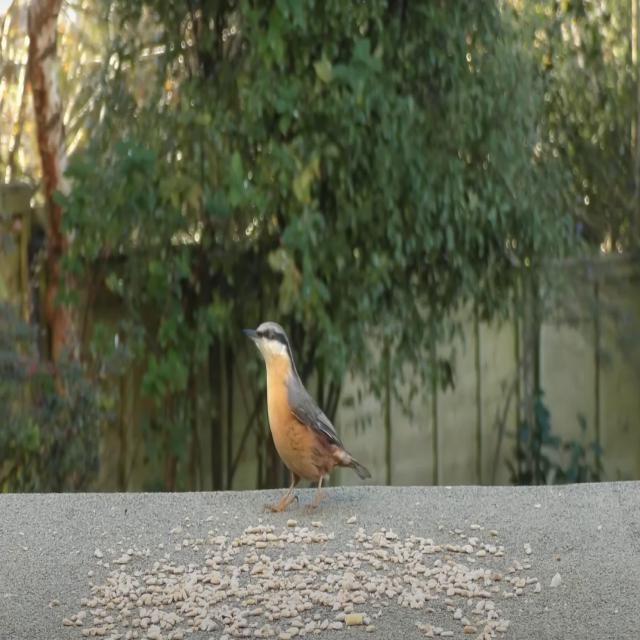beak: (242, 322, 259, 348)
bird: (245, 316, 375, 520)
